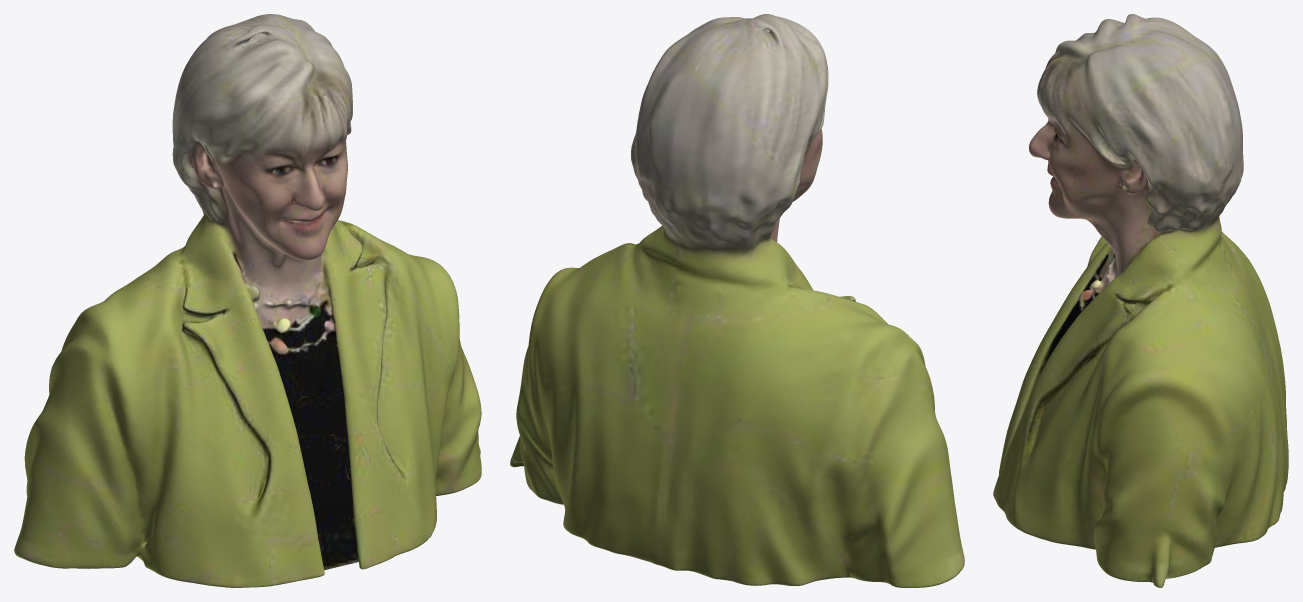
3 renders of one model, left to right at view 1: azimuth 30°, elevation 25°; view 2: azimuth 150°, elevation 25°; view 3: azimuth 270°, elevation 25°, orthographic. The views are drawn at different scales.
Bounding box in the file's own units: 1.83 × 1.9 × 1.09.
Materials: 1 (1 with a texture image).
